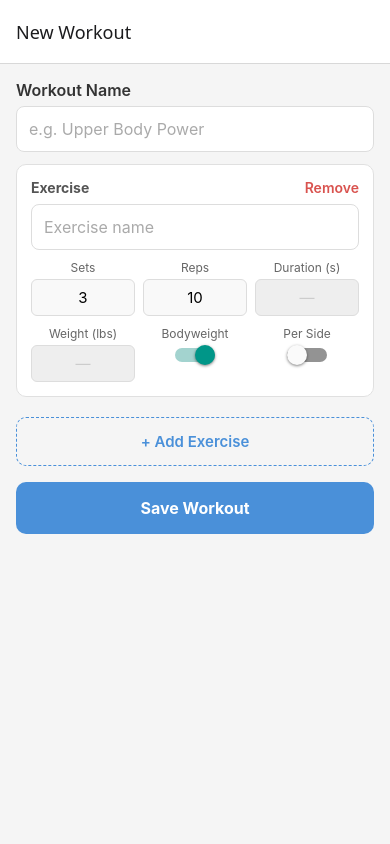
WorkoutDesignScreen › adds a new exercise card when pressing Add Exercise
Check: the number of fields with placeholder "Exercise name" is 1, box [31,204,359,250]
Click the text "+ Add Exercise".
click(195, 442)  # box [141,432,249,451]
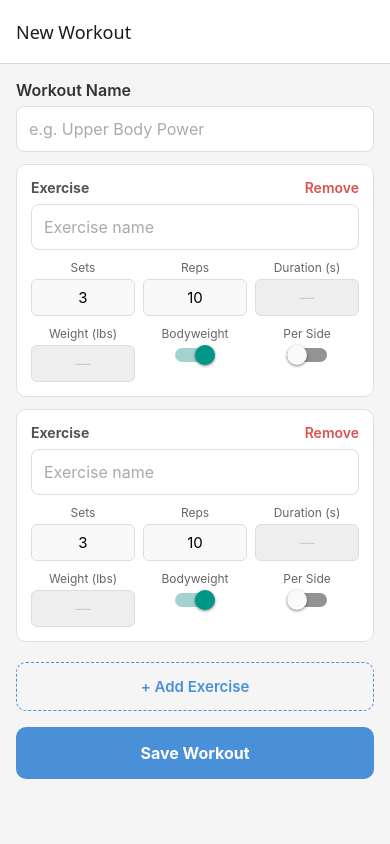
Check: the number of fields with placeholder "Exercise name" is 2, box [31,204,359,250]; [31,449,359,495]
